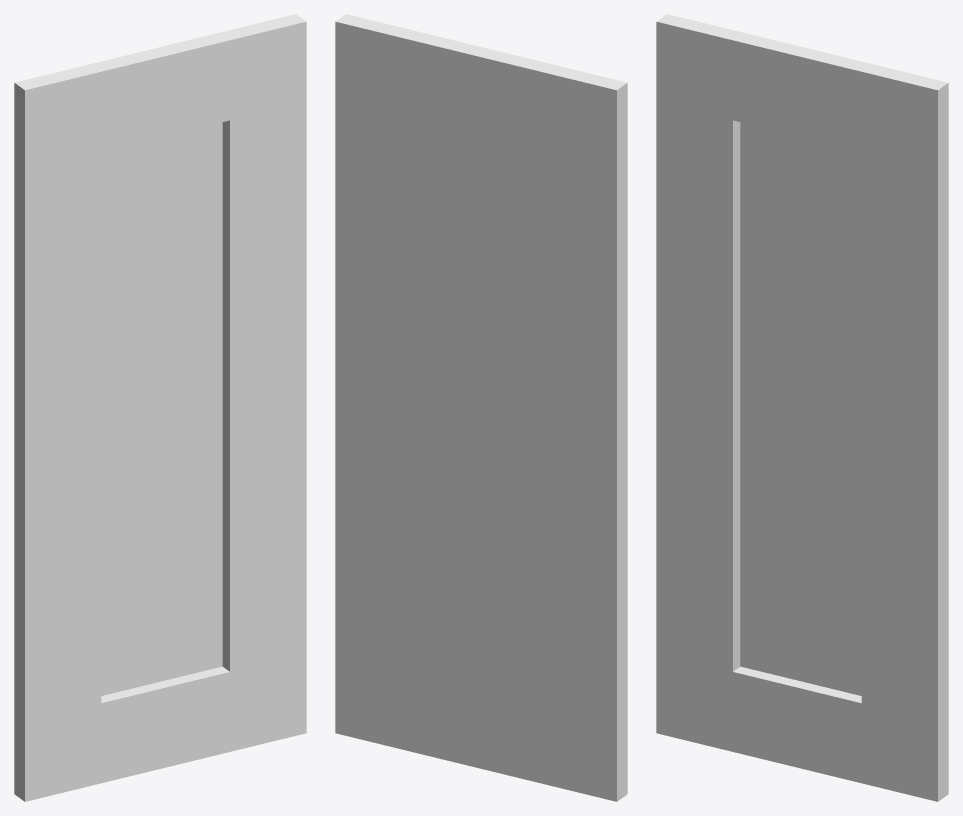
File: front_bottom_keretes_30_l.glb
3 views of the same model, side by side, from view 1: azimuth 30°, elevation 25°; view 2: azimuth 150°, elevation 25°; view 3: azimuth 330°, elevation 25° (orthographic).
Visible parts, largest first — view 1: front_bottom_keretes_30_L; view 2: front_bottom_keretes_30_L; view 3: front_bottom_keretes_30_L.
Boxes of the visible parts, bbox=[...] form: front_bottom_keretes_30_L: bbox=[14, 14, 306, 801]; front_bottom_keretes_30_L: bbox=[335, 14, 627, 801]; front_bottom_keretes_30_L: bbox=[656, 14, 948, 801].
Bounding box in the file's own units: 0.2944 × 0.711 × 0.019.
Materials: 1 (1 with a texture image).
